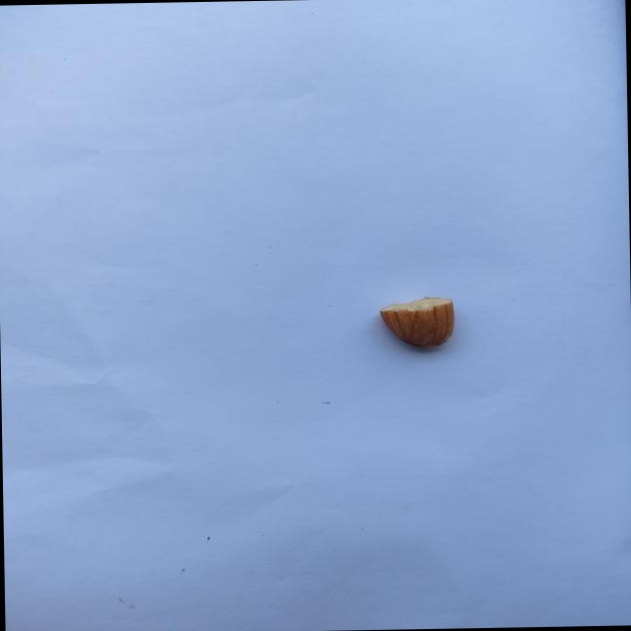grade4: (371, 292, 462, 356)
